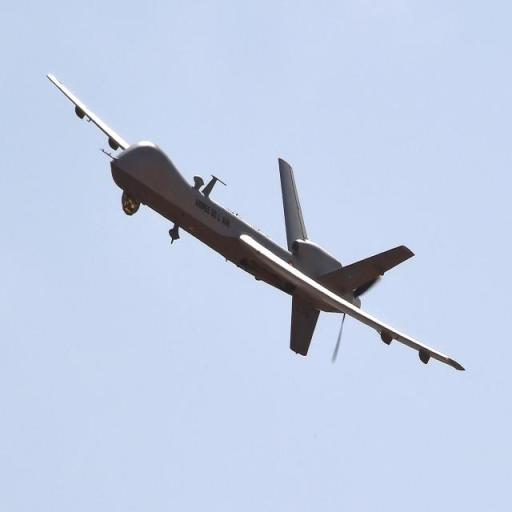uav: (40, 69, 472, 383)
